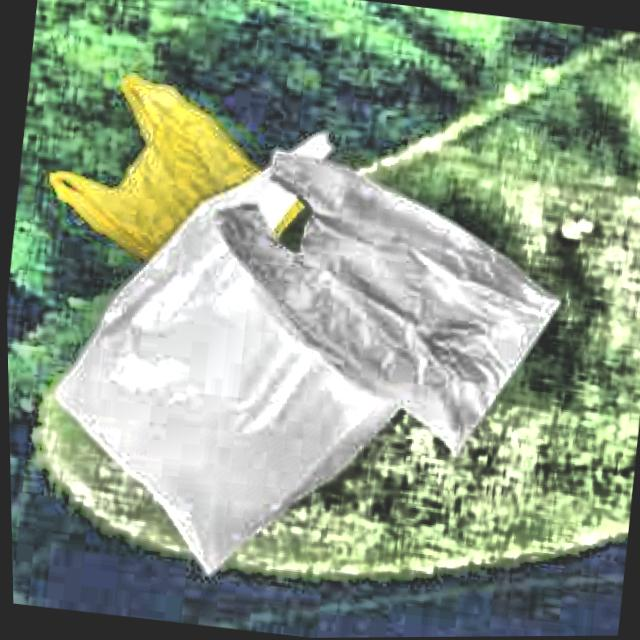Plastic: (22, 95, 479, 611), (187, 133, 574, 477), (32, 51, 326, 293)
